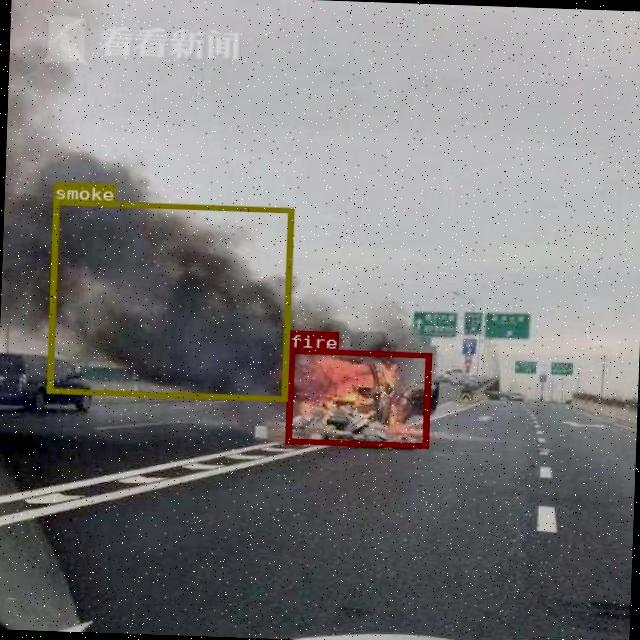fire: (284, 347, 429, 447)
smoke: (46, 198, 292, 400)
